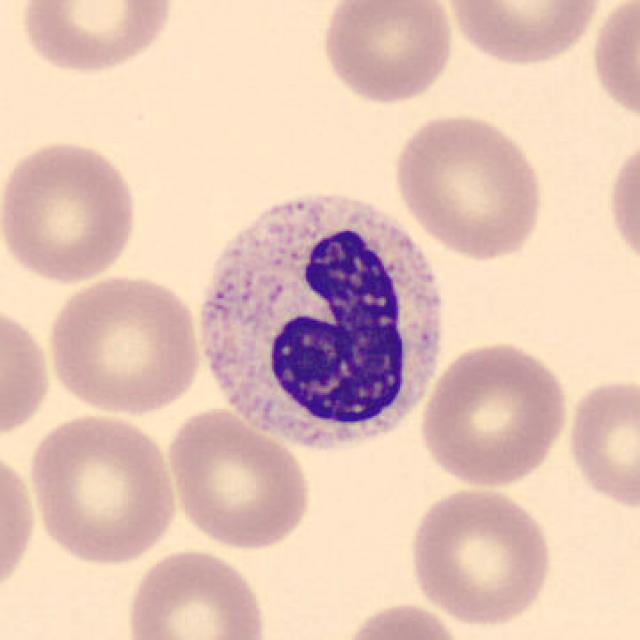Neutrophil: (191, 185, 454, 464)
RBC: (23, 409, 183, 568), (390, 109, 548, 263), (416, 337, 572, 490), (42, 271, 204, 418), (162, 404, 314, 552), (404, 483, 556, 628), (0, 134, 144, 287), (316, 0, 458, 106), (123, 545, 270, 640), (16, 0, 180, 78), (441, 0, 606, 69), (564, 374, 638, 513), (0, 300, 55, 446), (588, 0, 638, 130), (0, 442, 39, 604), (336, 599, 466, 640), (604, 129, 640, 277)
